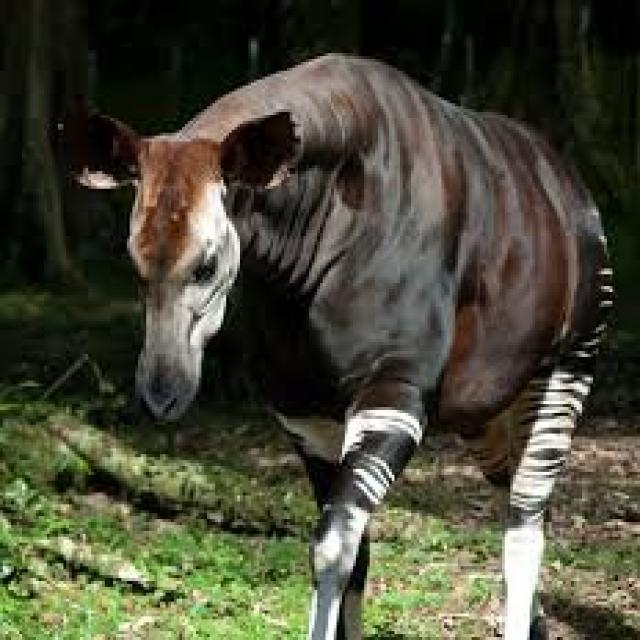Okapi: (89, 42, 619, 640)
